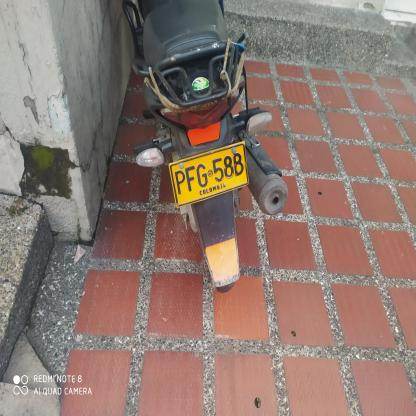placa: (162, 137, 251, 212)
